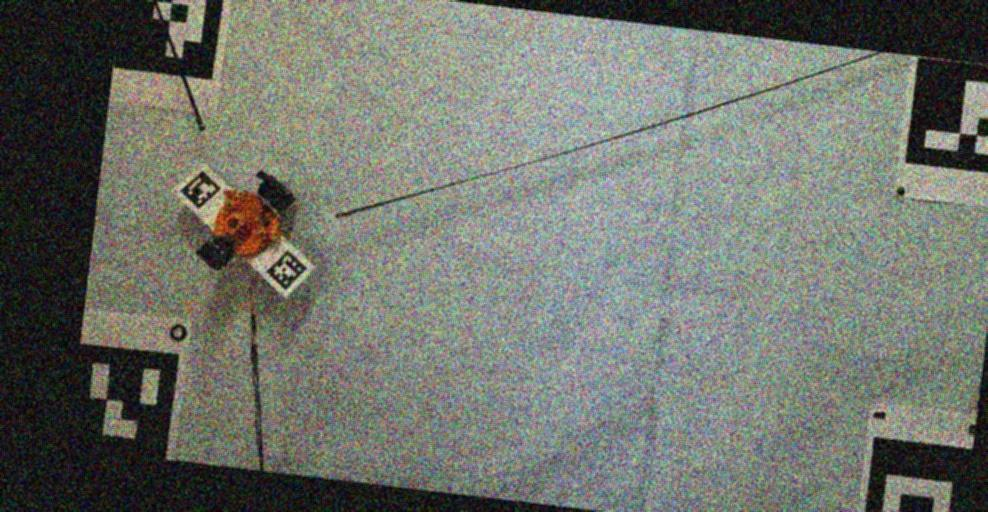robot: (196, 171, 295, 270)
